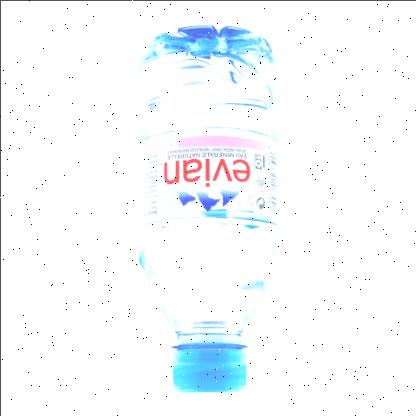Plastic Bottle: (124, 28, 288, 402)
